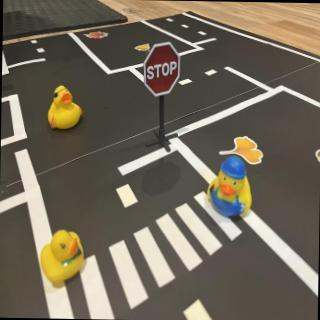duck_regular: (40, 228, 87, 285)
duck_specialty: (206, 154, 255, 220), (47, 84, 85, 132)
road_crosswalk: (72, 184, 250, 320)
sign_stop: (144, 42, 181, 98)
